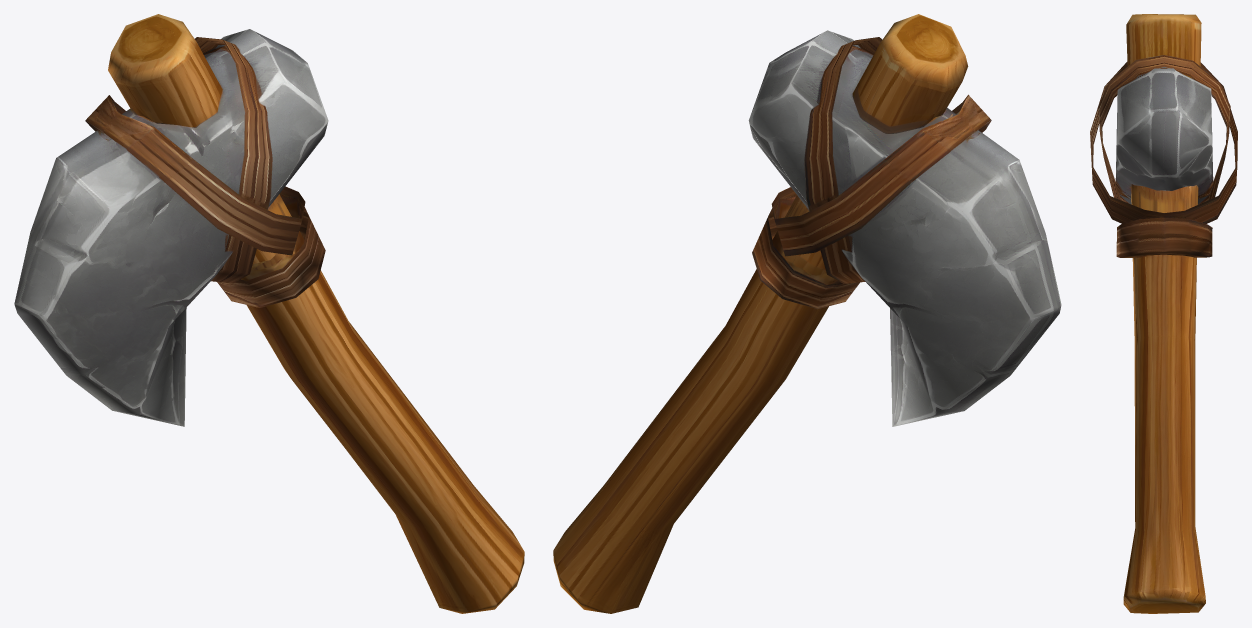
The model's file is Meshy_AI_Stonebound_Axe_0714134330_texture.fbx.
3 views of the same model, side by side, from view 1: azimuth 30°, elevation 25°; view 2: azimuth 150°, elevation 25°; view 3: azimuth 270°, elevation 25° (orthographic). The views are drawn at different scales.
Visible parts, largest first — view 1: Mesh_0.001; view 2: Mesh_0.001; view 3: Mesh_0.001.
Boxes of the visible parts, <box> form: Mesh_0.001: <box>14,14,524,613</box>; Mesh_0.001: <box>553,14,1061,613</box>; Mesh_0.001: <box>1090,14,1237,613</box>.
Size of the model in its own units: 79.8 by 100 by 27.06.
1 material, 1 textured.
